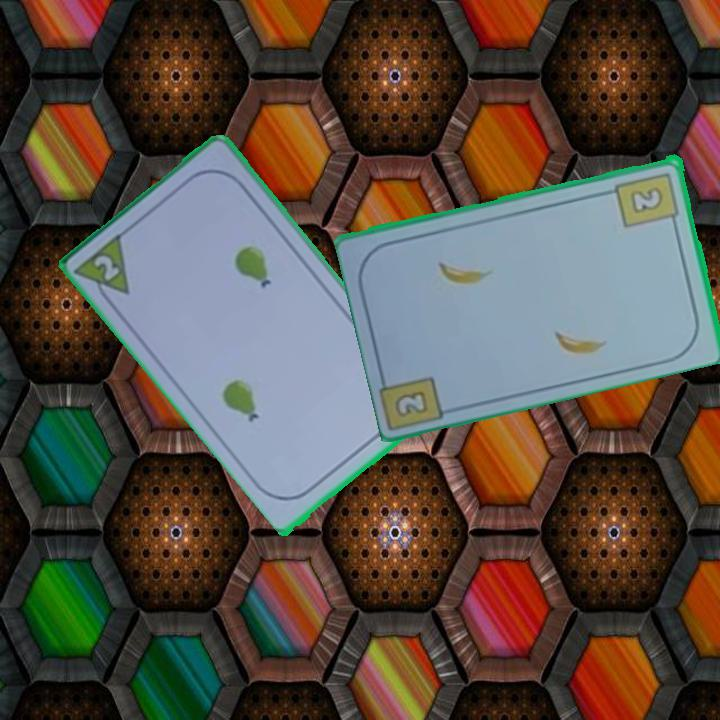2b: (612, 168, 682, 230), (391, 386, 431, 420)
2p: (72, 228, 134, 312)
